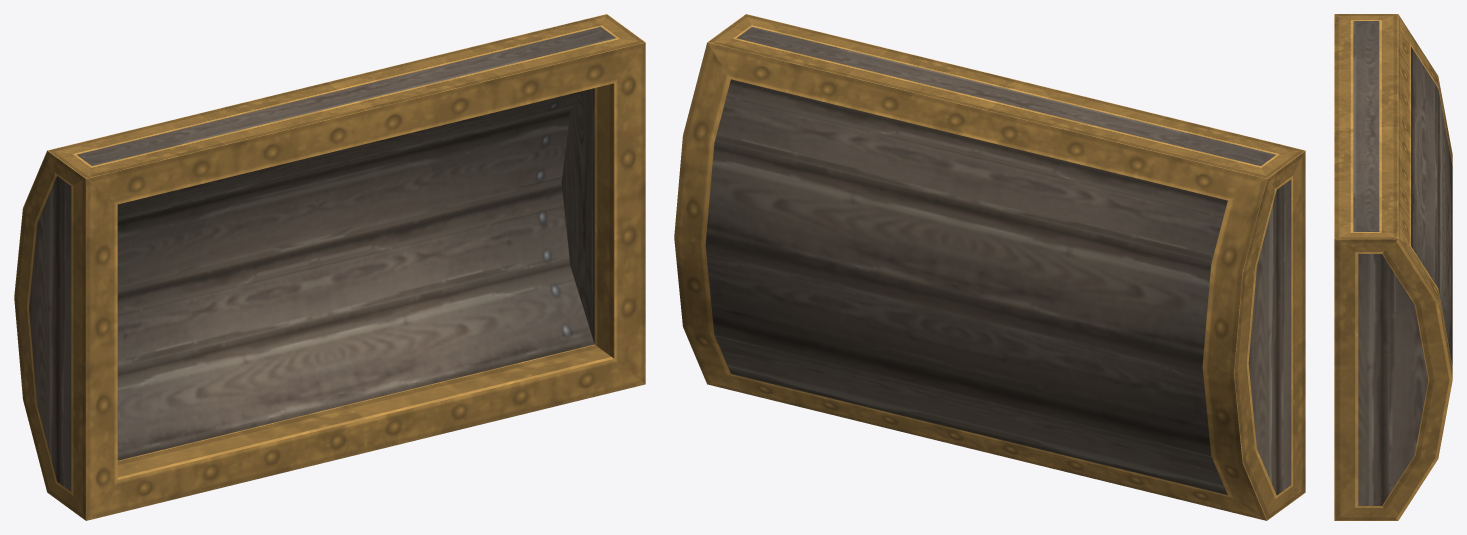
Rendered from Chest_A_Gold_Top.fbx.
3 views of the same model, side by side, from view 1: azimuth 30°, elevation 25°; view 2: azimuth 150°, elevation 25°; view 3: azimuth 270°, elevation 25° (orthographic). The views are drawn at different scales.
Visible parts, largest first — view 1: Chest_A_Gold_Top; view 2: Chest_A_Gold_Top; view 3: Chest_A_Gold_Top.
Part boxes in pixels (x1,y1,x2,y2): Chest_A_Gold_Top: (14,14,645,520); Chest_A_Gold_Top: (674,14,1305,520); Chest_A_Gold_Top: (1334,14,1452,520).
Size of the model in its own units: 1.25 by 0.7272 by 0.277.
